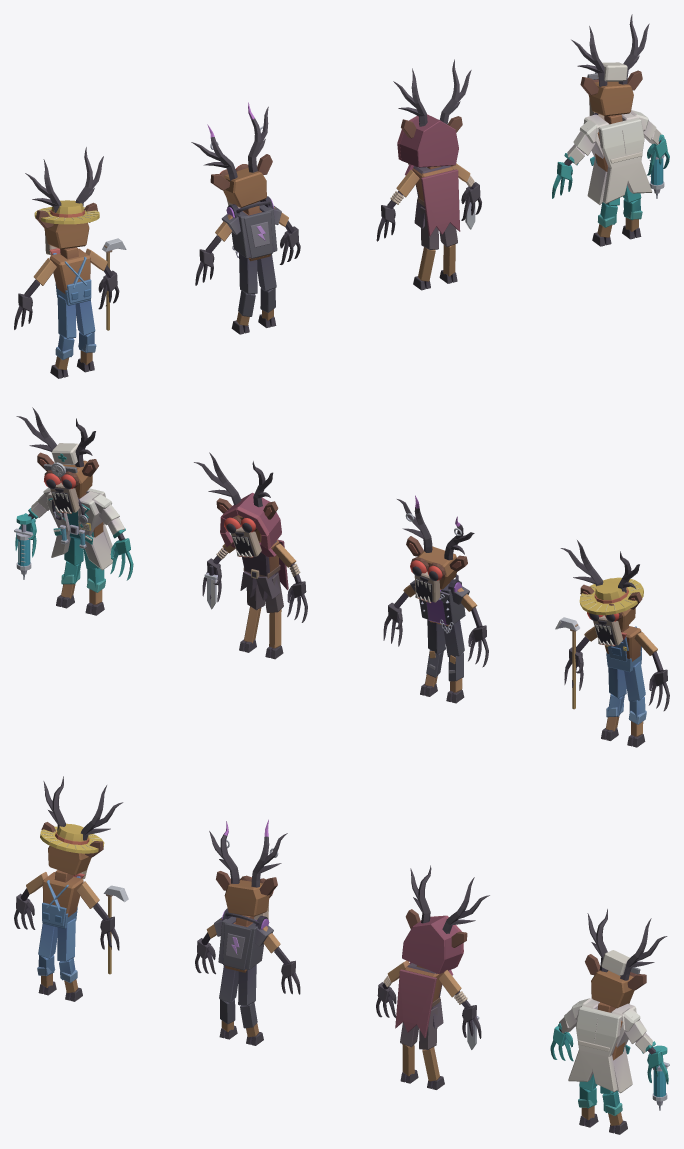
File: GrowAZombie_DeerCollection.glb
3 renders of one model, top to bottom at view 1: azimuth 30°, elevation 25°; view 2: azimuth 150°, elevation 25°; view 3: azimuth 330°, elevation 25°, orthographic.
Visible parts, largest first — view 1: Deer_Chief__Body, Deer_Assassin__Head, Deer_Chief__Head, Deer_Farmer__Head, Deer_Punk__Head, Deer_Assassin__Body, Deer_Punk__Body, Deer_Farmer__Body, Deer_Farmer__LegL, Deer_Punk__LegL, Deer_Chief__ArmL, Deer_Farmer__LegR (+12 smaller); view 2: Deer_Assassin__Head, Deer_Farmer__Head, Deer_Chief__Head, Deer_Punk__Head, Deer_Chief__Body, Deer_Assassin__Body, Deer_Farmer__LegL, Deer_Punk__Body, Deer_Punk__LegL, Deer_Chief__ArmL, Deer_Farmer__Body, Deer_Punk__LegR (+14 smaller); view 3: Deer_Chief__Body, Deer_Assassin__Head, Deer_Farmer__Head, Deer_Chief__Head, Deer_Punk__Head, Deer_Assassin__Body, Deer_Punk__Body, Deer_Farmer__Body, Deer_Farmer__LegR, Deer_Punk__LegR, Deer_Chief__ArmR, Deer_Farmer__LegL (+13 smaller).
Part boxes in pixels (left/top/right/bottom): Deer_Chief__Body: left=583, top=112, right=652, bottom=204; Deer_Assassin__Head: left=393, top=59, right=471, bottom=167; Deer_Chief__Head: left=571, top=14, right=649, bottom=119; Deer_Farmer__Head: left=25, top=147, right=103, bottom=255; Deer_Punk__Head: left=191, top=102, right=272, bottom=208; Deer_Assassin__Body: left=405, top=164, right=460, bottom=236; Deer_Punk__Body: left=226, top=196, right=277, bottom=261; Deer_Farmer__Body: left=49, top=247, right=91, bottom=305; Deer_Farmer__LegL: left=50, top=295, right=76, bottom=378; Deer_Punk__LegL: left=231, top=253, right=257, bottom=334; Deer_Chief__ArmL: left=552, top=119, right=597, bottom=198; Deer_Farmer__LegR: left=75, top=300, right=96, bottom=372; Deer_Assassin__Head: left=194, top=452, right=281, bottom=557; Deer_Farmer__Head: left=560, top=540, right=643, bottom=646; Deer_Chief__Head: left=16, top=407, right=98, bottom=513; Deer_Punk__Head: left=397, top=495, right=474, bottom=603; Deer_Chief__Body: left=46, top=488, right=112, bottom=570; Deer_Assassin__Body: left=230, top=539, right=288, bottom=600; Deer_Farmer__LegL: left=624, top=661, right=646, bottom=747; Deer_Punk__Body: left=414, top=574, right=465, bottom=633; Deer_Punk__LegL: left=443, top=620, right=464, bottom=703; Deer_Chief__ArmL: left=92, top=494, right=133, bottom=580; Deer_Farmer__Body: left=604, top=625, right=641, bottom=672; Deer_Punk__LegR: left=420, top=619, right=445, bottom=696; Deer_Chief__Body: left=568, top=998, right=636, bottom=1093; Deer_Assassin__Head: left=402, top=865, right=489, bottom=973; Deer_Farmer__Head: left=40, top=776, right=123, bottom=879; Deer_Chief__Head: left=585, top=909, right=667, bottom=1008; Deer_Punk__Head: left=209, top=819, right=287, bottom=919; Deer_Assassin__Body: left=395, top=962, right=453, bottom=1037; Deer_Punk__Body: left=218, top=908, right=269, bottom=972; Deer_Farmer__Body: left=42, top=870, right=84, bottom=928; Deer_Farmer__LegR: left=57, top=918, right=82, bottom=1001; Deer_Punk__LegR: left=238, top=965, right=263, bottom=1045; Deer_Chief__ArmR: left=622, top=1008, right=668, bottom=1084; Deer_Farmer__LegL: left=37, top=924, right=57, bottom=995.
Size of the model in its own units: 28.87 by 8.88 by 2.84.
